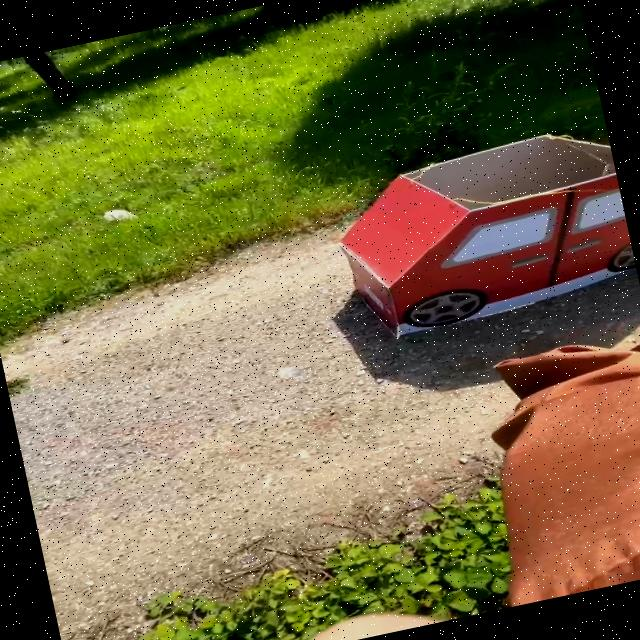red_car: (270, 108, 640, 368)
